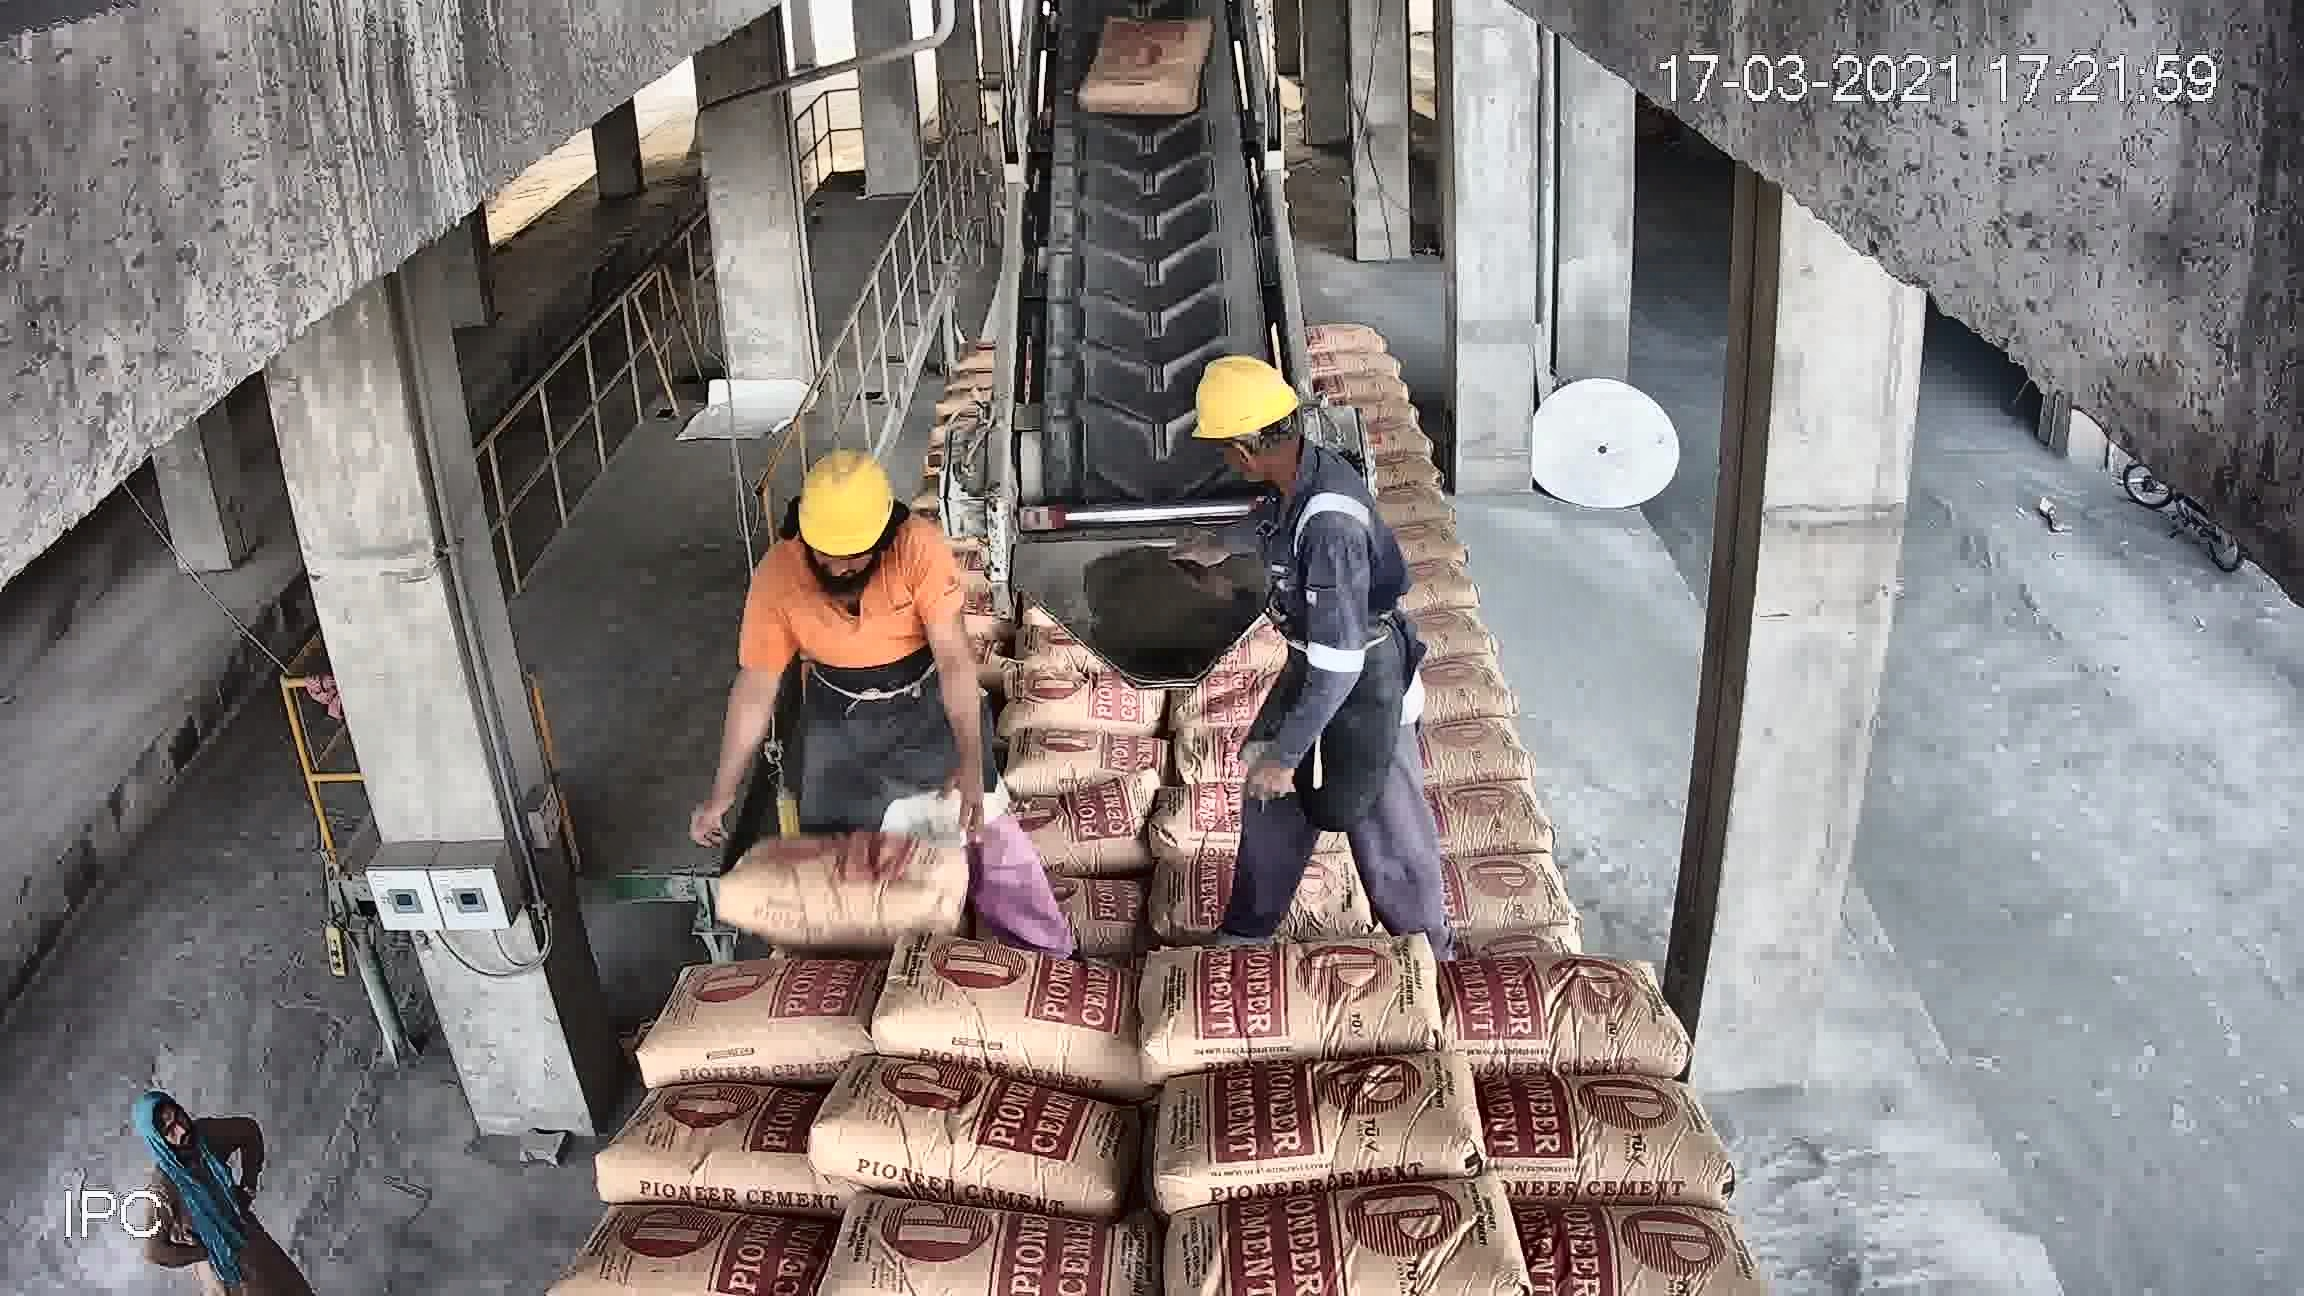bag_h: (1138, 929, 1468, 1070), (1160, 1059, 1491, 1195), (807, 1093, 1138, 1201), (1138, 720, 1393, 855), (1139, 836, 1424, 956), (1190, 1187, 1524, 1287), (1472, 1086, 1737, 1203), (1473, 953, 1674, 1093), (842, 1204, 1144, 1294), (1510, 1188, 1760, 1296), (616, 1089, 821, 1212), (521, 1214, 813, 1296), (878, 978, 1144, 1067), (668, 967, 872, 1081), (902, 764, 1165, 847), (692, 870, 911, 961), (897, 870, 1135, 946), (1449, 869, 1646, 957), (1396, 777, 1595, 850), (714, 801, 916, 867), (999, 673, 1184, 726), (1410, 707, 1537, 777), (1002, 726, 1173, 777), (1021, 589, 1185, 635), (1033, 541, 1180, 590), (1022, 627, 1174, 673), (764, 734, 907, 779), (1412, 658, 1510, 714), (1185, 529, 1313, 568), (1169, 567, 1271, 614), (937, 498, 1032, 543), (1173, 630, 1250, 668), (956, 555, 1024, 587)
belt: (1014, 0, 1302, 517)
